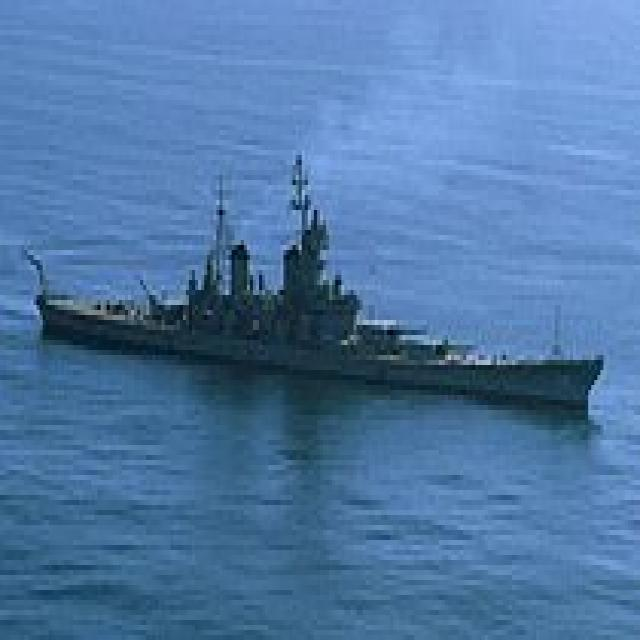boat: (36, 199, 604, 407)
